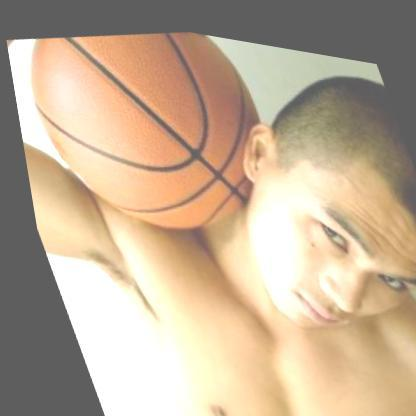basketball: (0, 0, 306, 271)
